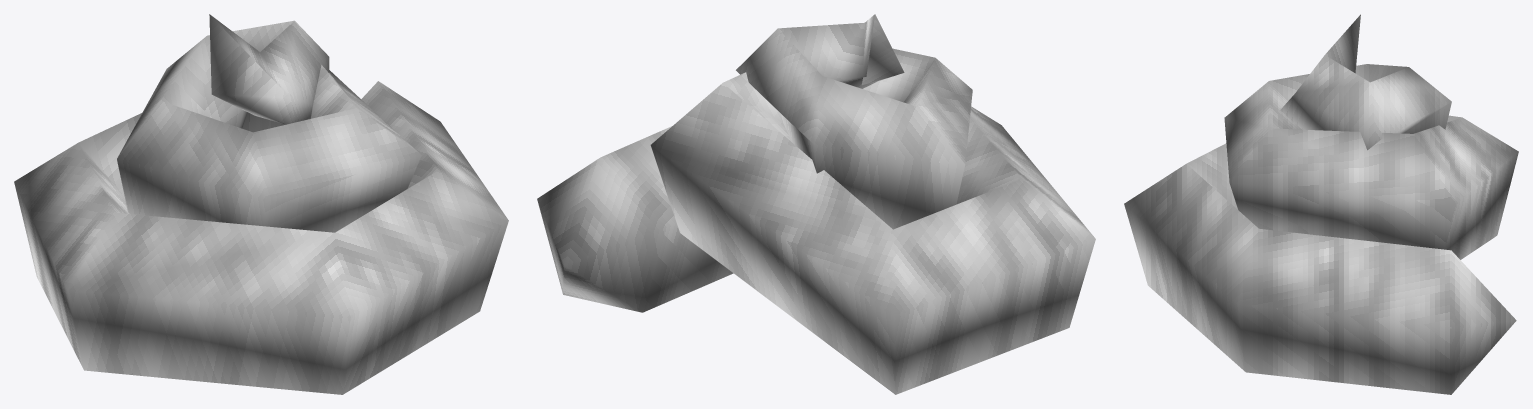
Rendered from excrement.obj.
The picture shows the model from 3 angles, left to right: view 1: azimuth 30°, elevation 25°; view 2: azimuth 150°, elevation 25°; view 3: azimuth 270°, elevation 25°; orthographic projection. The views are drawn at different scales.
Visible parts, largest first — view 1: Cylinder03; view 2: Cylinder03; view 3: Cylinder03.
Part boxes in pixels (box(x1,y1,x2,y2)): Cylinder03: box(14, 14, 508, 394); Cylinder03: box(537, 14, 1095, 394); Cylinder03: box(1124, 14, 1518, 394).
Size of the model in its own units: 22.58 by 14.1 by 18.74.
